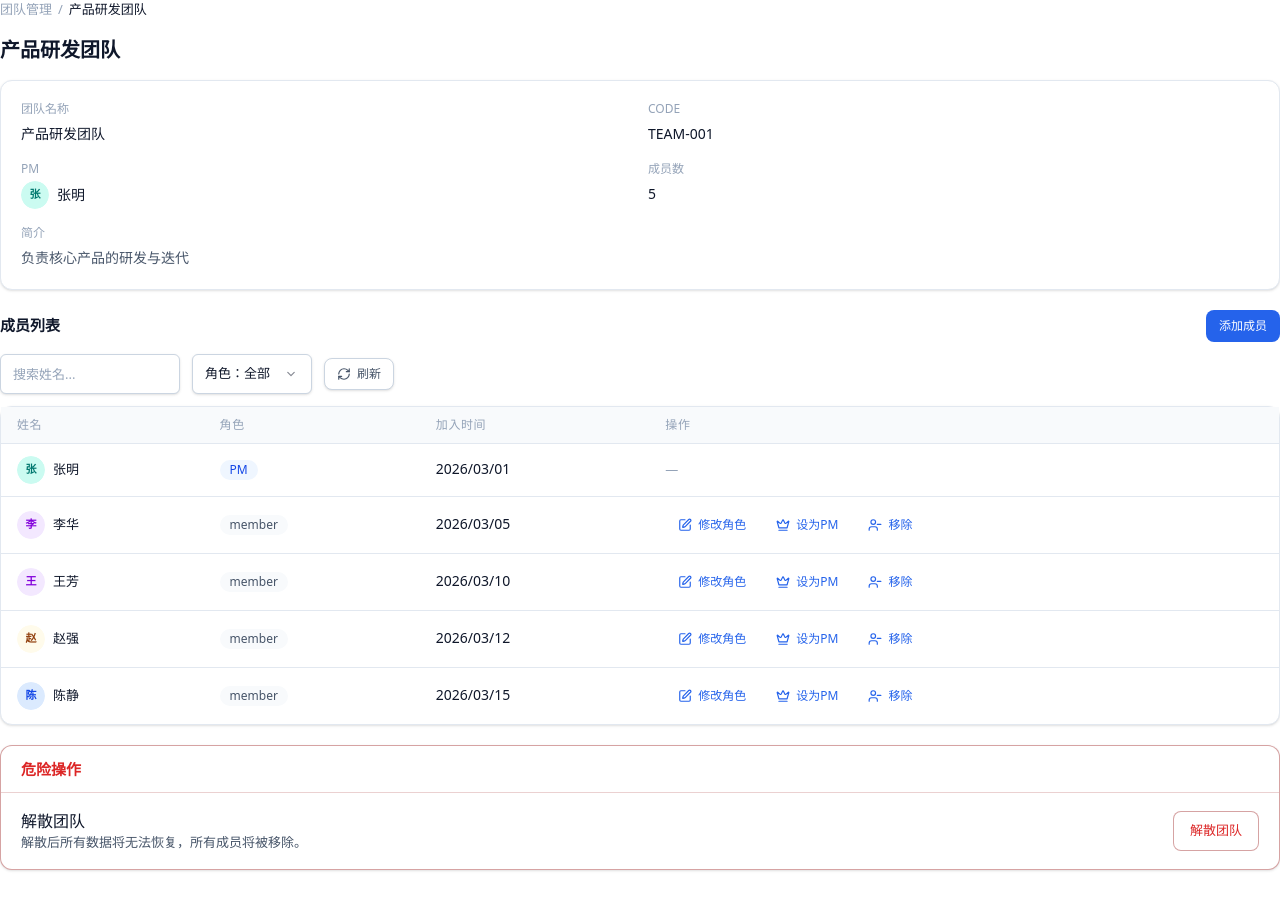
Test: TeamDetailPage › opens add member dialog when clicking add button
This screenshot has width=1280, height=900.
What coordinates should you click on to do the following:
click the button "添加成员"
I would click on:
 (1243, 326)
Its box is [1206,310,1279,342].
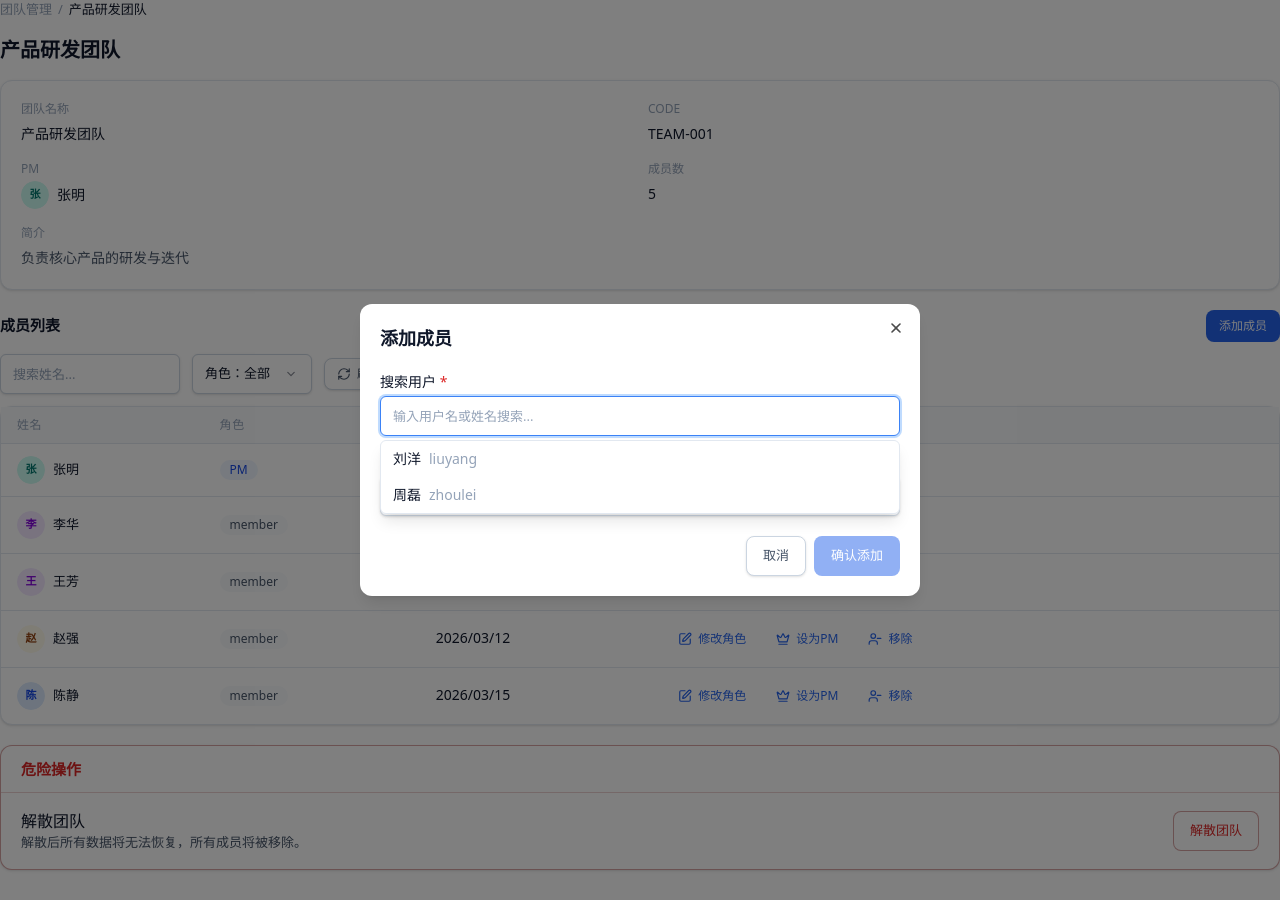
Now the text "搜索用户" is shown, box [380,372,440,391]
